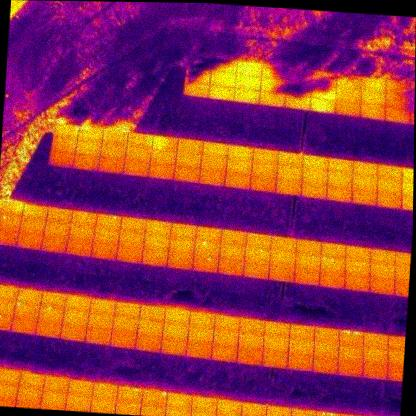Diode: (102, 129, 129, 145), (53, 124, 80, 140)
Hotspot: (95, 212, 122, 232), (141, 390, 169, 409), (318, 256, 346, 274), (117, 386, 143, 405), (91, 382, 117, 401), (37, 306, 65, 323), (192, 254, 220, 271), (337, 329, 364, 346), (13, 301, 40, 318), (244, 247, 271, 264), (143, 248, 167, 267), (218, 258, 243, 275), (194, 241, 220, 257), (78, 127, 103, 143), (321, 242, 346, 257), (241, 402, 266, 416), (295, 254, 320, 268), (0, 214, 20, 230), (0, 313, 13, 330), (289, 408, 316, 416), (315, 412, 342, 416), (338, 414, 365, 416)
Normal: (83, 326, 112, 346), (59, 323, 88, 342), (112, 301, 142, 319), (62, 294, 92, 312), (224, 171, 253, 189), (164, 307, 191, 326), (251, 147, 278, 166), (111, 316, 139, 334), (15, 388, 43, 406), (242, 262, 270, 280), (165, 393, 193, 411), (191, 396, 217, 415), (362, 332, 391, 349), (121, 160, 150, 177), (108, 331, 137, 348), (162, 322, 189, 340), (264, 321, 291, 339), (293, 267, 320, 285), (277, 151, 304, 169), (227, 144, 254, 162), (286, 353, 313, 371), (313, 327, 341, 344), (88, 299, 116, 316), (215, 399, 243, 416), (90, 242, 118, 259), (198, 169, 226, 186), (351, 175, 379, 192), (160, 337, 188, 354), (336, 346, 364, 363), (168, 251, 194, 269), (312, 356, 338, 374), (261, 350, 287, 368), (138, 305, 167, 321), (87, 313, 114, 330), (61, 309, 88, 326), (214, 316, 241, 333), (47, 151, 74, 168), (336, 360, 363, 377), (185, 342, 212, 359), (362, 346, 389, 363), (312, 342, 339, 359), (262, 335, 289, 352), (269, 264, 294, 282), (186, 326, 214, 342), (188, 312, 216, 328), (368, 263, 396, 279), (40, 236, 68, 252), (275, 166, 303, 182), (319, 272, 345, 289), (116, 245, 142, 262), (66, 239, 92, 256), (16, 232, 42, 249), (220, 229, 246, 246), (196, 226, 222, 243), (170, 223, 196, 240), (145, 220, 171, 237), (70, 209, 96, 226), (68, 379, 94, 396), (19, 373, 45, 390), (211, 345, 237, 362), (300, 169, 329, 184), (212, 330, 239, 346), (136, 321, 163, 337), (289, 325, 316, 341), (238, 319, 265, 335), (15, 288, 42, 304), (19, 219, 46, 235), (148, 163, 175, 179), (302, 155, 329, 171), (152, 137, 179, 153), (127, 133, 154, 149), (284, 95, 311, 111), (135, 335, 162, 351), (376, 164, 404, 179), (258, 91, 286, 106), (287, 340, 315, 355), (237, 334, 265, 349), (0, 369, 22, 388), (41, 392, 67, 408), (368, 278, 394, 294), (370, 249, 396, 265), (345, 246, 371, 262), (69, 225, 95, 241), (296, 239, 322, 255), (351, 190, 377, 206), (326, 187, 352, 203), (43, 377, 69, 393), (376, 178, 402, 194), (176, 152, 202, 168), (150, 149, 176, 165), (51, 138, 77, 154), (177, 138, 203, 154), (359, 104, 385, 120), (237, 348, 263, 364), (36, 320, 62, 336), (224, 159, 253, 173), (168, 238, 195, 253), (44, 223, 71, 238), (300, 183, 327, 198), (97, 157, 124, 172), (72, 154, 99, 169), (75, 141, 102, 156), (207, 85, 234, 100), (361, 363, 388, 378), (345, 261, 370, 277), (22, 206, 47, 222), (184, 82, 209, 98), (309, 99, 337, 113), (235, 62, 263, 76), (12, 316, 35, 333), (269, 250, 295, 265), (144, 235, 170, 250), (93, 229, 119, 244), (246, 233, 272, 248), (120, 218, 146, 233), (376, 193, 402, 208), (251, 176, 277, 191), (251, 163, 277, 178), (126, 147, 152, 162), (202, 141, 228, 156), (334, 100, 360, 115), (234, 88, 260, 103), (360, 90, 386, 105), (209, 71, 235, 86), (65, 397, 91, 412), (46, 207, 70, 223), (39, 292, 66, 306), (234, 75, 261, 89), (344, 277, 369, 292), (220, 244, 245, 259), (276, 180, 301, 195), (174, 166, 199, 181), (201, 155, 226, 170), (327, 159, 352, 174), (336, 88, 361, 103), (119, 232, 145, 246), (271, 236, 297, 250), (352, 163, 378, 177), (100, 144, 126, 158), (362, 77, 385, 92), (327, 174, 353, 187), (90, 400, 116, 413), (0, 385, 18, 403), (0, 230, 18, 246), (266, 405, 292, 416), (0, 285, 19, 300), (0, 299, 17, 314)
Shadow: (259, 76, 287, 93), (335, 73, 362, 90), (210, 58, 237, 75), (285, 68, 313, 84), (311, 70, 337, 87), (383, 107, 410, 123), (384, 93, 411, 109), (260, 64, 287, 80), (286, 81, 312, 97), (185, 68, 211, 84), (310, 85, 337, 100), (384, 81, 409, 95)
